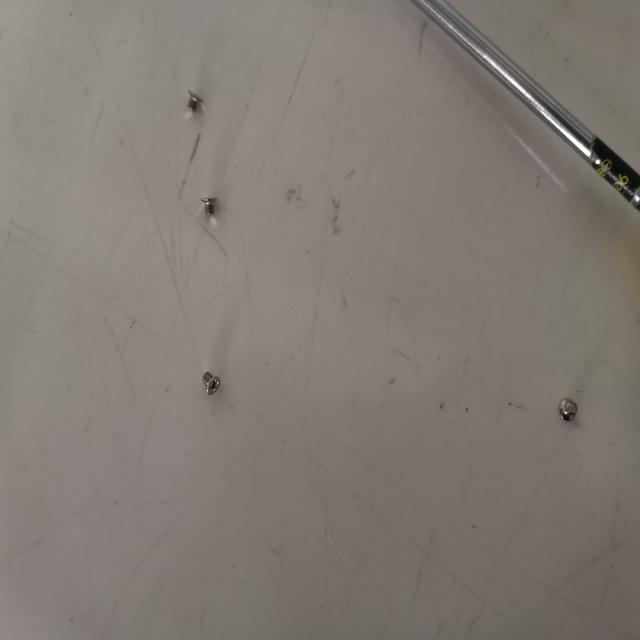Screw: (557, 395, 581, 426), (200, 370, 222, 398), (184, 87, 204, 114), (200, 194, 219, 218)
